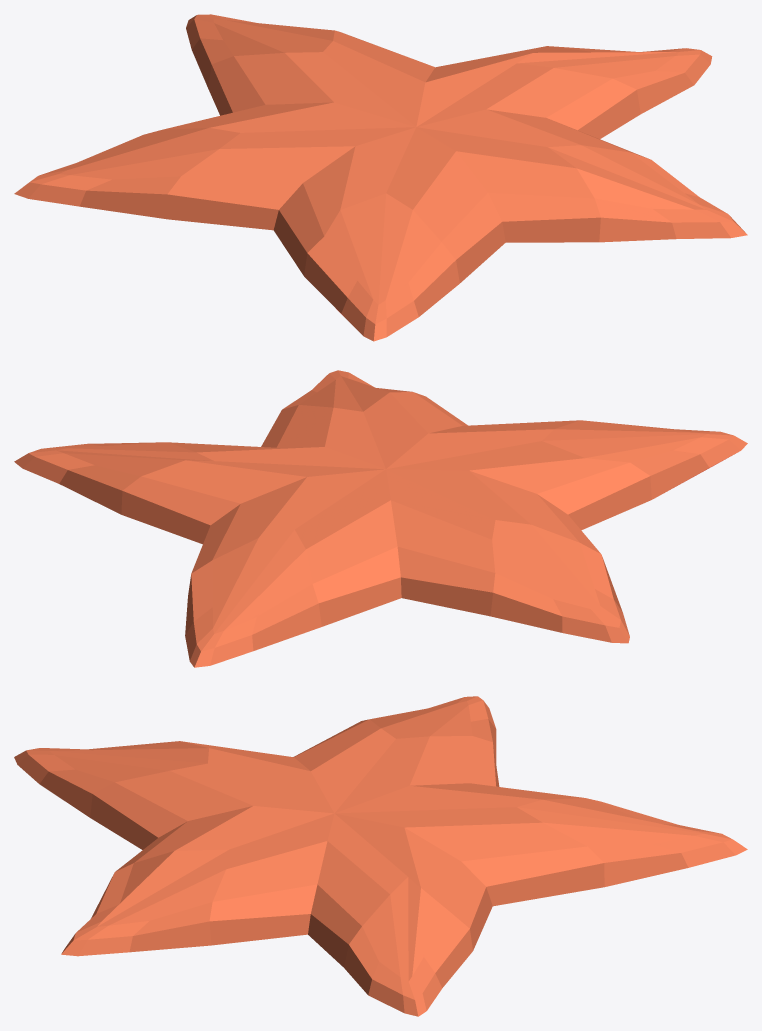
File: StarFish.obj
3 views of the same model, one above another, from view 1: azimuth 30°, elevation 25°; view 2: azimuth 150°, elevation 25°; view 3: azimuth 270°, elevation 25° (orthographic). The views are drawn at different scales.
Parts seen in each view (by area): view 1: Starfish_StarfishMesh; view 2: Starfish_StarfishMesh; view 3: Starfish_StarfishMesh.
Part boxes in pixels (x1,y1,x2,y2): Starfish_StarfishMesh: (14,14,747,341); Starfish_StarfishMesh: (14,370,747,667); Starfish_StarfishMesh: (14,696,747,1016).
Size of the model in its own units: 0.3608 by 0.032 by 0.3543.
Materials: 2 (1 with a texture image).
